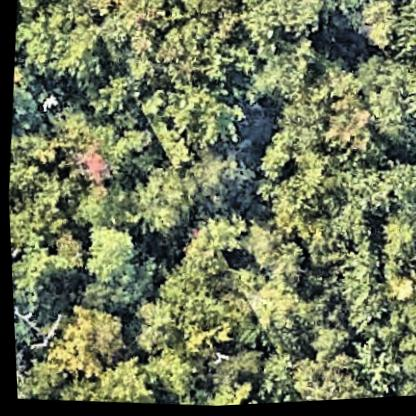tree-top: (16, 0, 110, 84), (143, 12, 237, 94), (41, 303, 133, 384), (151, 78, 245, 155), (47, 109, 130, 190), (5, 150, 68, 255), (353, 55, 416, 150), (175, 205, 250, 276), (261, 166, 332, 241), (74, 222, 145, 296), (130, 165, 198, 239), (103, 0, 172, 71), (160, 253, 220, 333), (245, 282, 311, 354), (332, 244, 382, 338), (236, 0, 331, 49), (349, 0, 416, 68), (123, 298, 188, 368), (179, 146, 246, 212), (234, 223, 303, 287), (317, 101, 384, 166), (245, 48, 313, 112), (9, 244, 67, 314), (283, 355, 363, 405), (366, 210, 416, 287), (92, 353, 157, 407), (297, 319, 353, 369), (206, 345, 261, 394), (154, 357, 203, 407), (93, 69, 141, 118), (8, 53, 39, 124), (61, 185, 102, 231), (10, 296, 28, 361)
